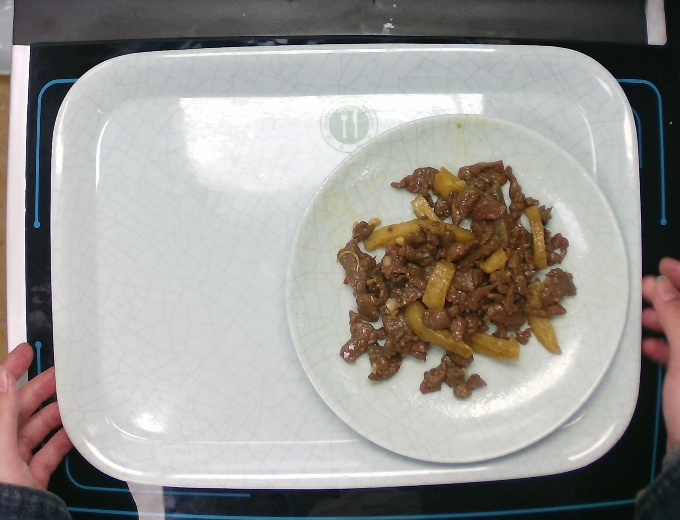JYsf-Da_Yuan_Pan: (283, 112, 632, 465)
